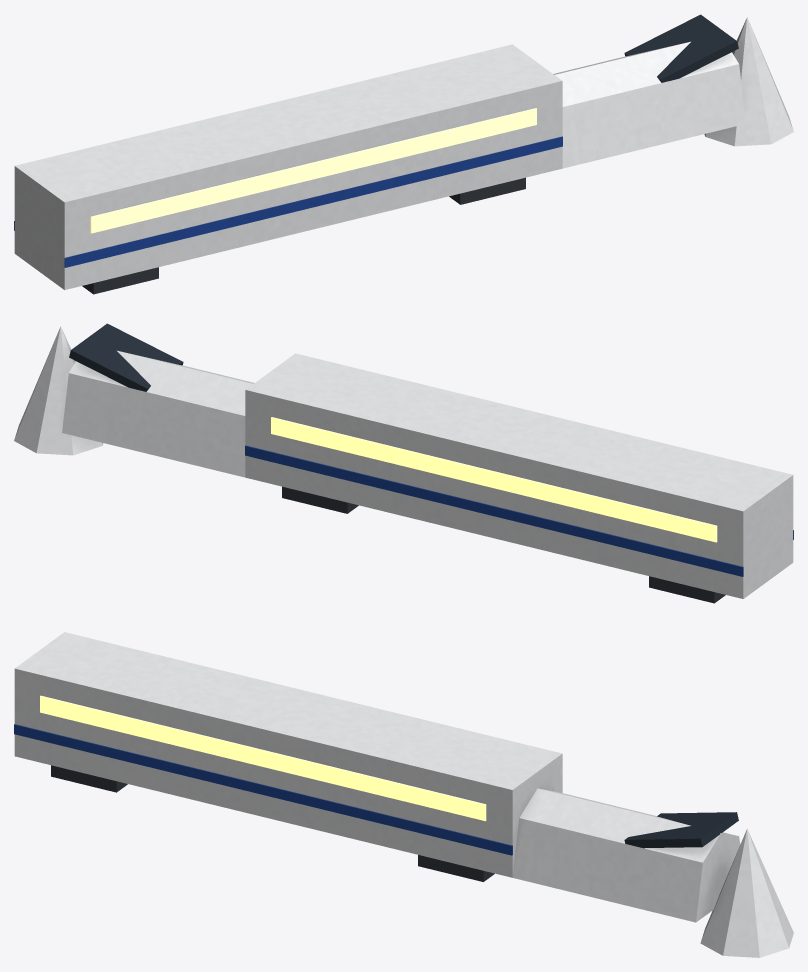
The model's file is shinkansen_tex.glb.
3 views of the same model, one above another, from view 1: azimuth 30°, elevation 25°; view 2: azimuth 150°, elevation 25°; view 3: azimuth 330°, elevation 25° (orthographic).
Visible parts, largest first — view 1: shinkansen; view 2: shinkansen; view 3: shinkansen.
Boxes of the visible parts, bbox=[...] form: shinkansen: bbox=[14, 14, 793, 294]; shinkansen: bbox=[14, 323, 793, 603]; shinkansen: bbox=[14, 632, 793, 957].
Bounding box in the file's own units: 28.6 × 4.2 × 3.4.
5 materials, 2 textured.
